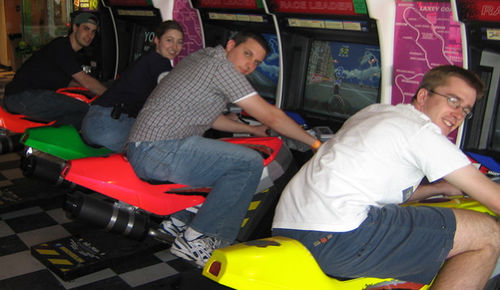without_mask: (416, 72, 477, 137), (224, 33, 268, 76), (151, 23, 185, 60), (69, 16, 99, 49)
